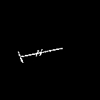treble_crochet: (18, 48, 61, 61)
